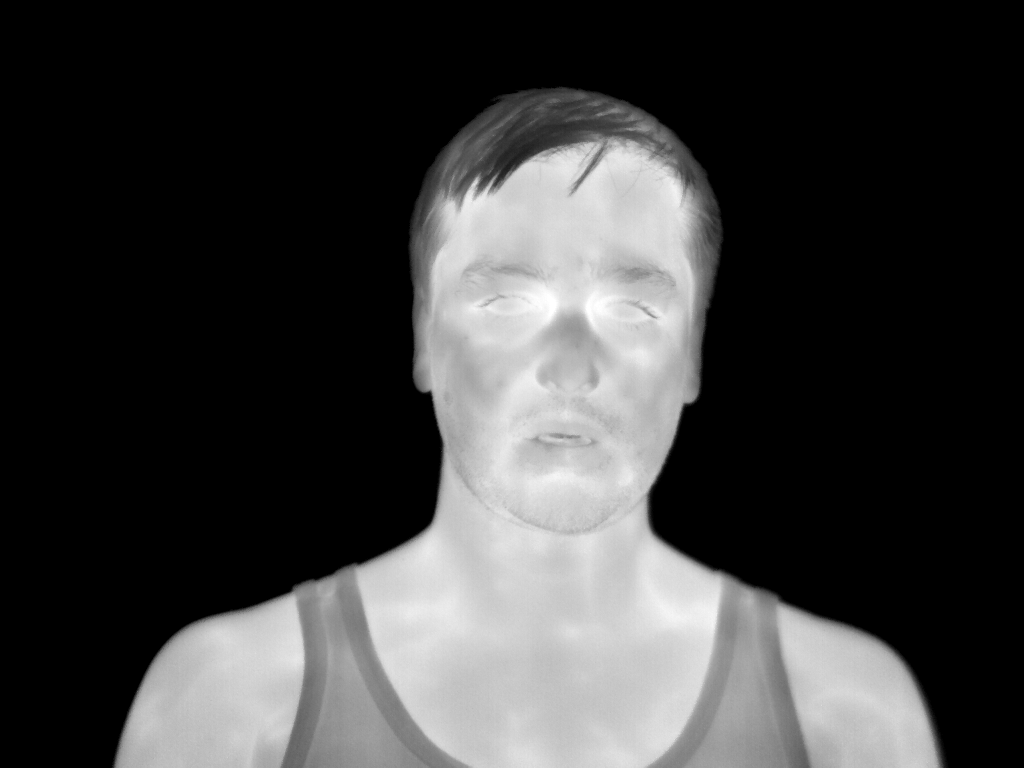face: (426, 145, 692, 539)
